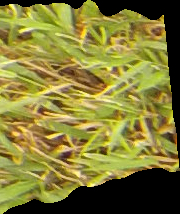grass: (1, 1, 178, 213)
